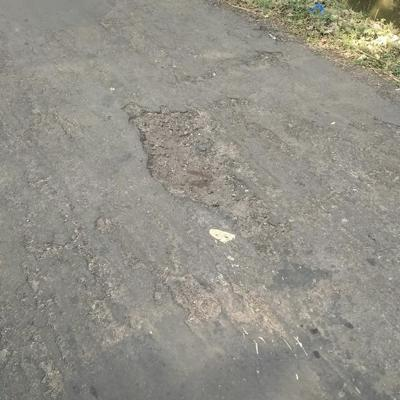Pothole: (127, 104, 261, 220)
